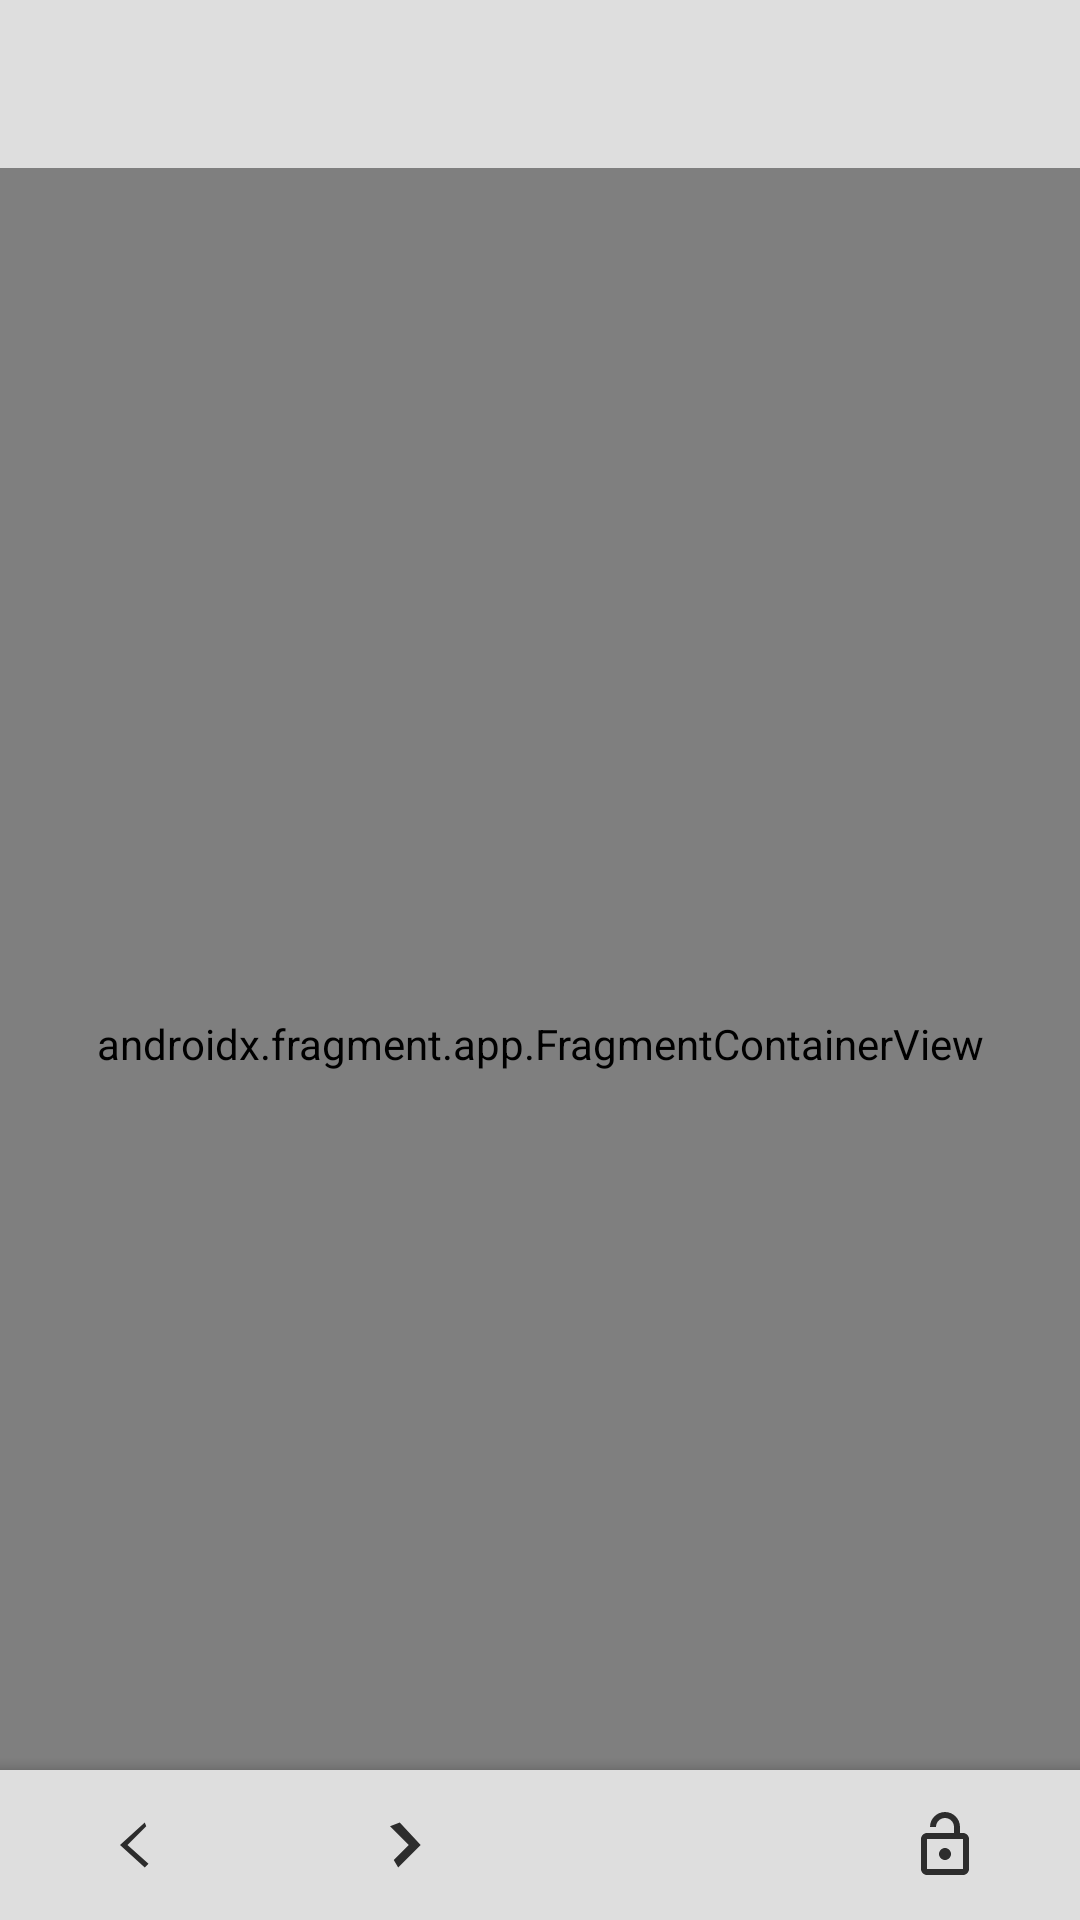

Screen size 1080w x 1920h. Icon name, then its center in pixels as (x=x, y=y):
lock open: (x=945, y=1843)
Next post button: (x=405, y=1845)
prev: (x=134, y=1845)
